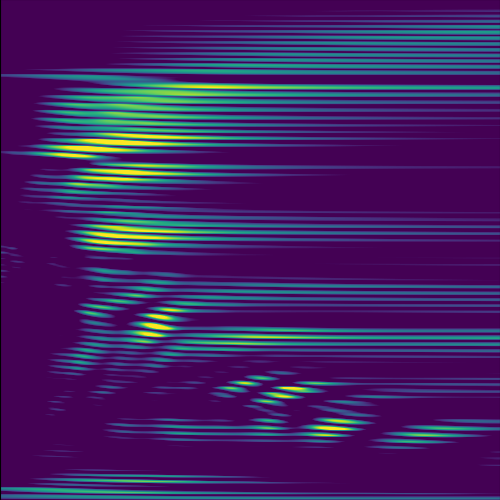semblance: (43, 126, 200, 162), (79, 217, 213, 254), (68, 161, 195, 191), (120, 300, 195, 350), (312, 413, 361, 435), (264, 384, 320, 401), (220, 376, 261, 394), (408, 430, 469, 440)
